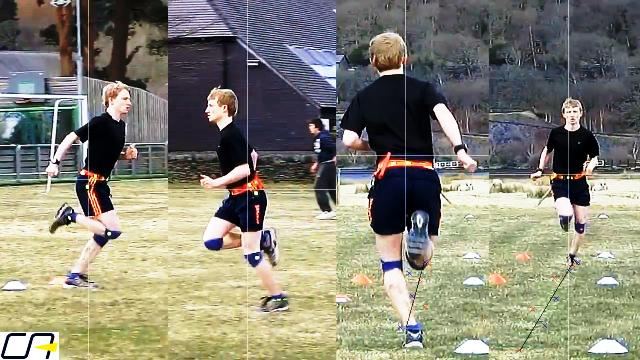berlari: (340, 28, 478, 358), (190, 82, 294, 318), (43, 77, 141, 292), (528, 93, 604, 271)
